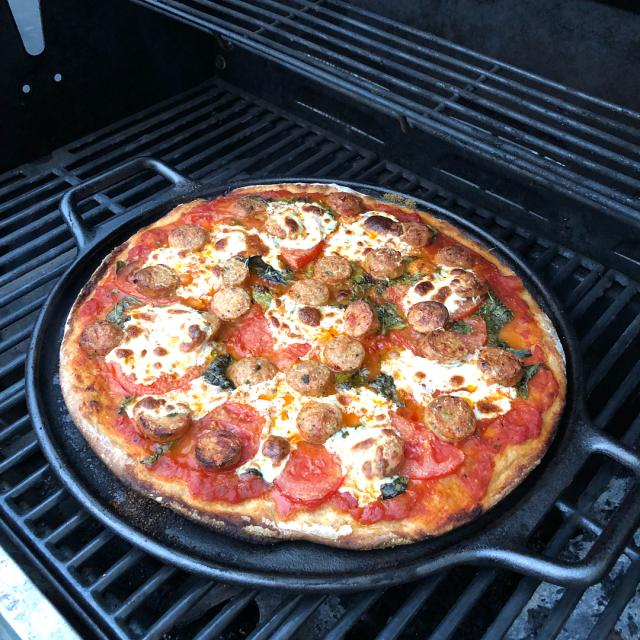pizza: (57, 180, 569, 552)
tomatoes: (172, 398, 263, 470), (270, 442, 346, 507), (391, 414, 467, 478), (114, 261, 182, 303), (228, 315, 276, 356), (106, 358, 159, 395), (281, 238, 325, 270), (456, 316, 488, 352)
